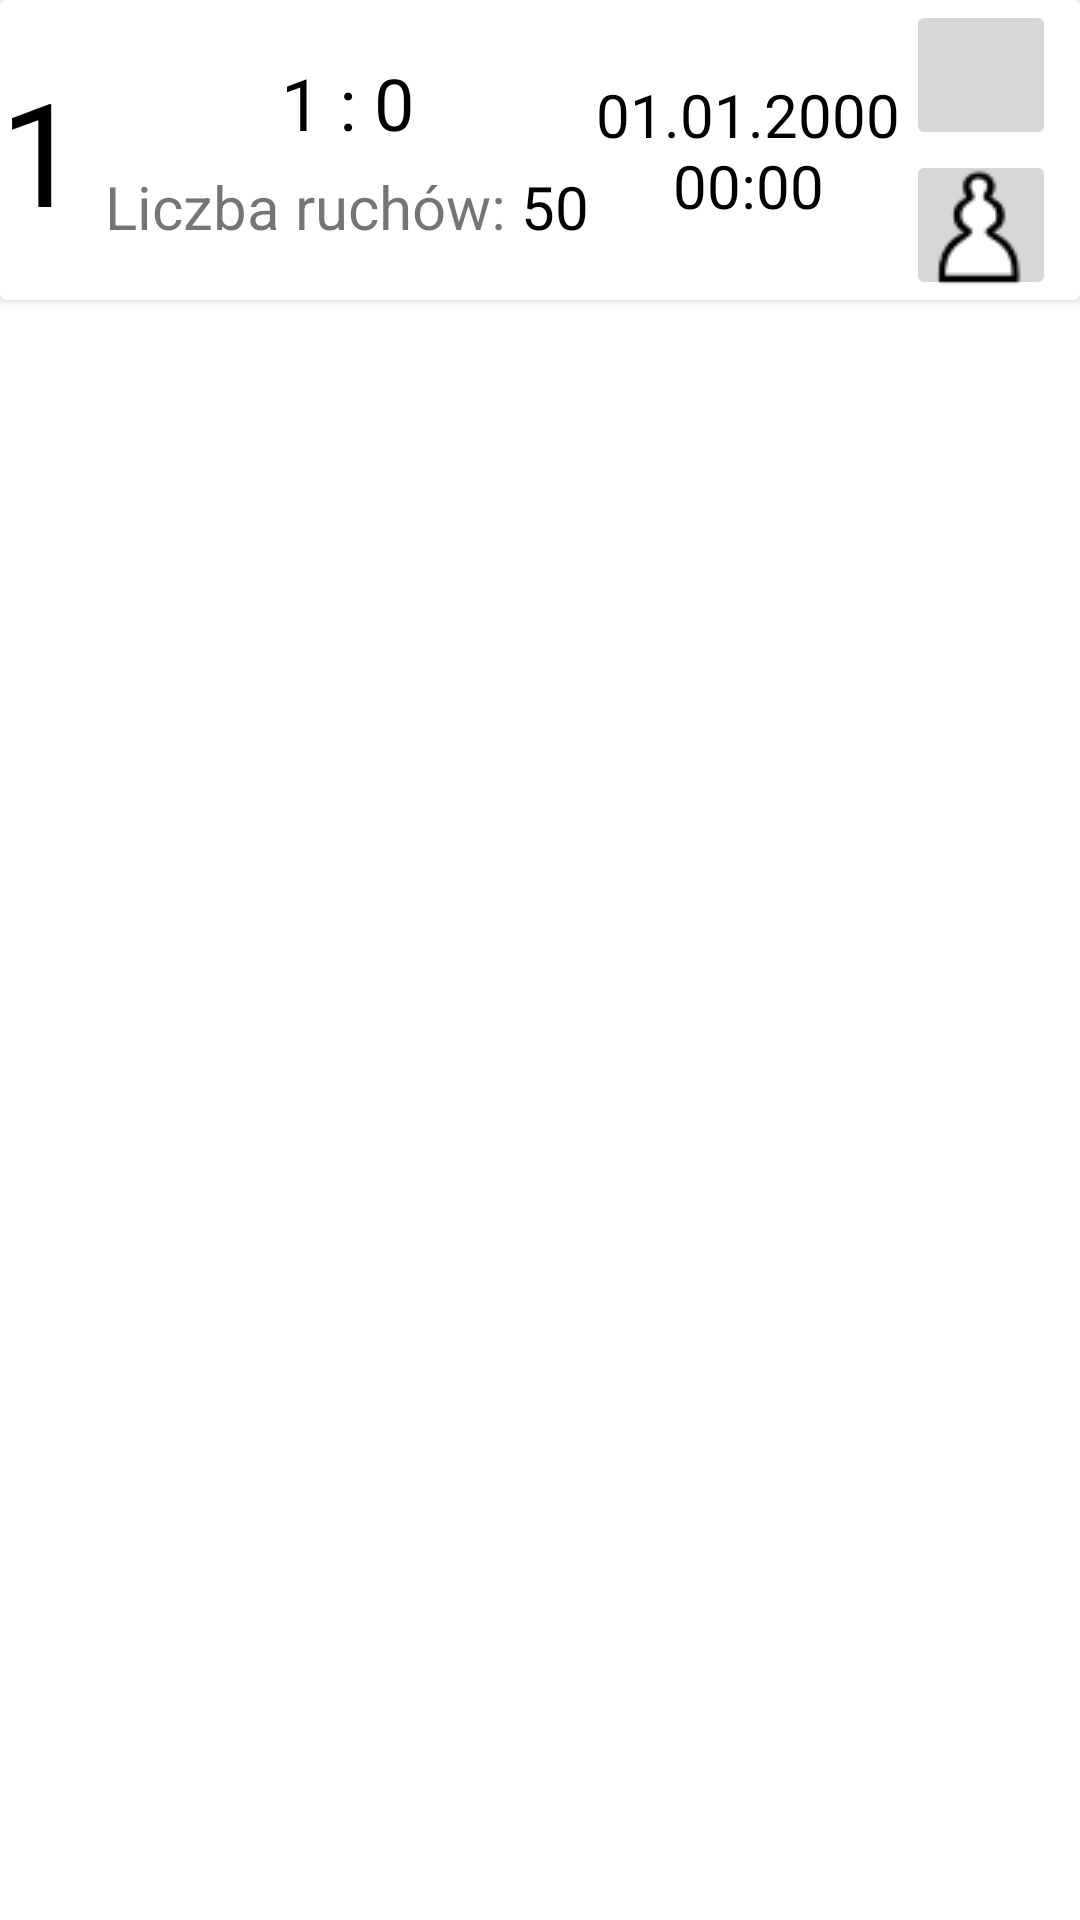

Icons on this 1080*1920 Android screen, each with the point to tap as [x,y]:
pawn: [981,225]
